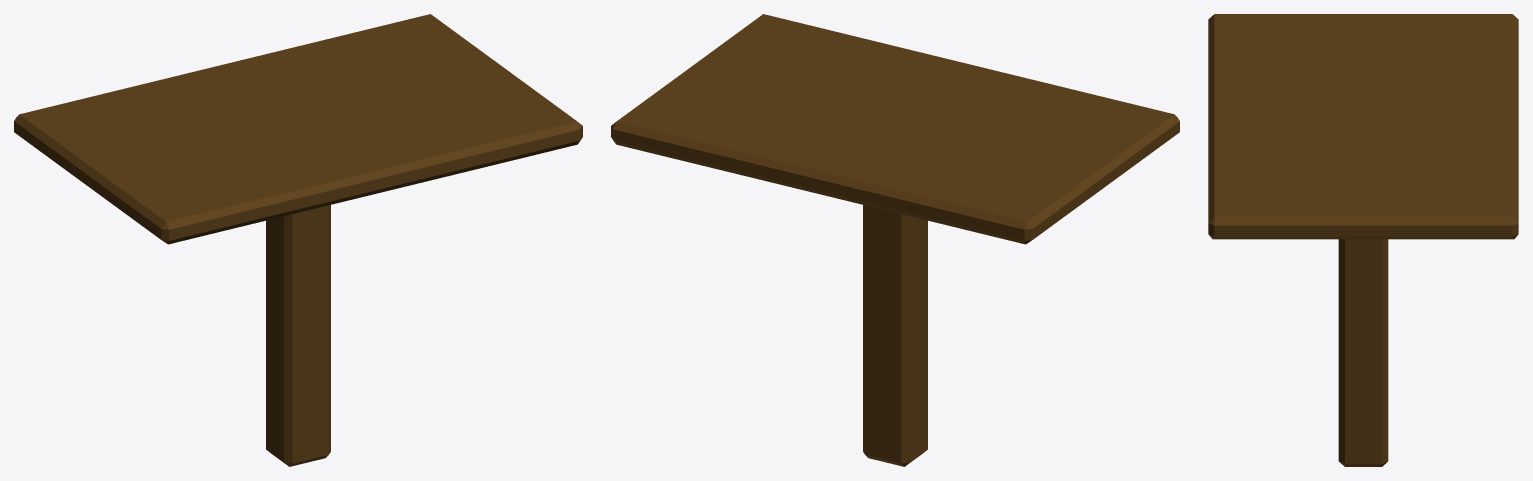
Rendered from mesa 3.fbx.
The picture shows the model from 3 angles, left to right: view 1: azimuth 30°, elevation 25°; view 2: azimuth 150°, elevation 25°; view 3: azimuth 270°, elevation 25°; orthographic projection.
Parts seen in each view (by area): view 1: Mesa 1.003; view 2: Mesa 1.003; view 3: Mesa 1.003.
Boxes of the visible parts, x1,y1,x2,y2 form: Mesa 1.003: (14, 14, 582, 466); Mesa 1.003: (611, 14, 1179, 466); Mesa 1.003: (1208, 14, 1518, 466).
Bounding box in the file's own units: 88.43 × 67.66 × 55.61.
